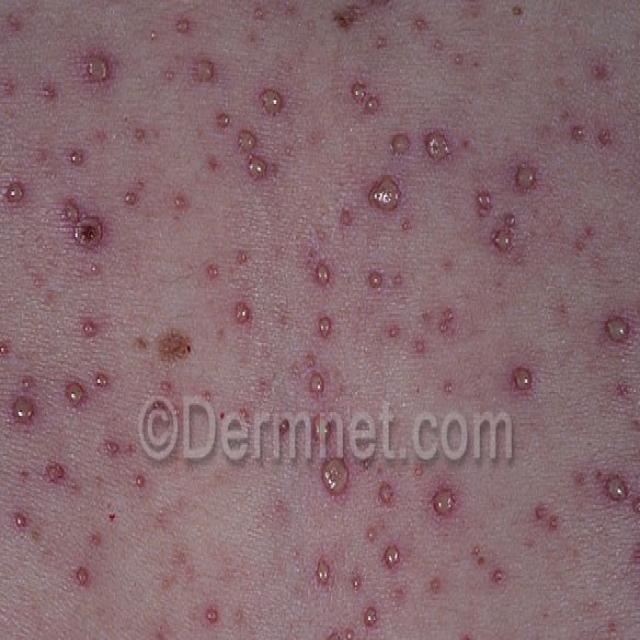Viral Infections: (0, 36, 640, 640)
